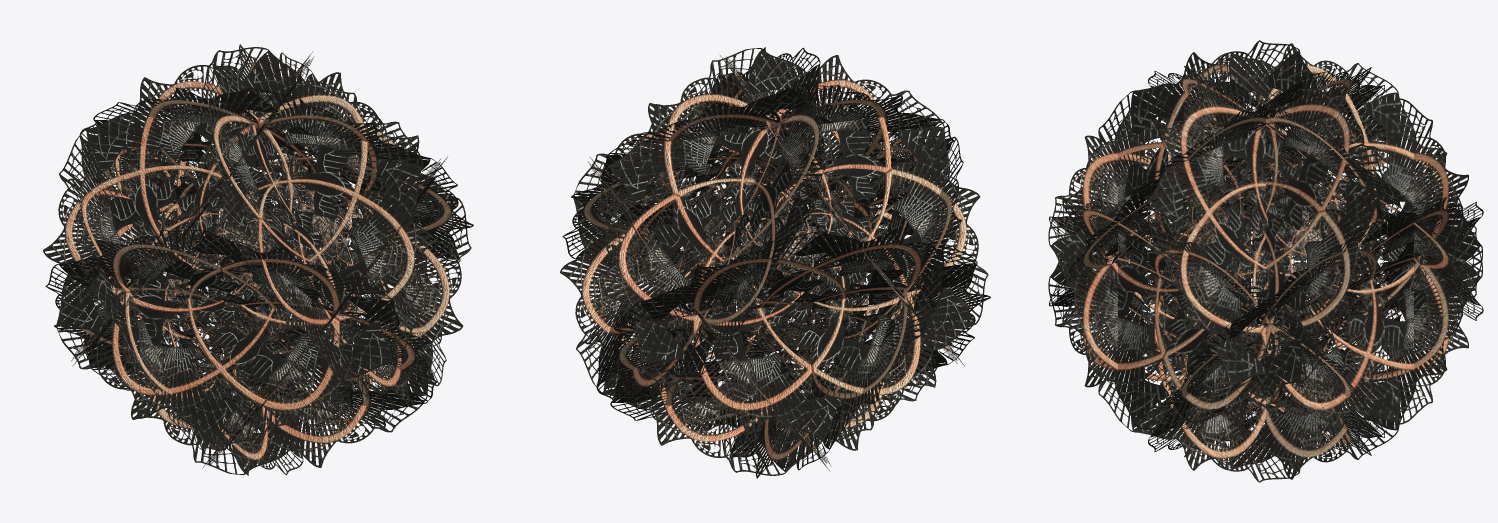
Rendered from GreatTruncatedCuboctahedron42.gltf.
3 views of the same model, side by side, from view 1: azimuth 30°, elevation 25°; view 2: azimuth 150°, elevation 25°; view 3: azimuth 270°, elevation 25° (orthographic).
Visible parts, largest first — view 1: GreatTruncatedCuboctahedron; view 2: GreatTruncatedCuboctahedron; view 3: GreatTruncatedCuboctahedron.
Boxes of the visible parts, left/top/right/bottom form: GreatTruncatedCuboctahedron: left=43, top=44, right=473, bottom=475; GreatTruncatedCuboctahedron: left=560, top=47, right=990, bottom=478; GreatTruncatedCuboctahedron: left=1048, top=40, right=1483, bottom=482.
Size of the model in its own units: 1.83 by 1.83 by 1.83.
1 material, 1 textured.
